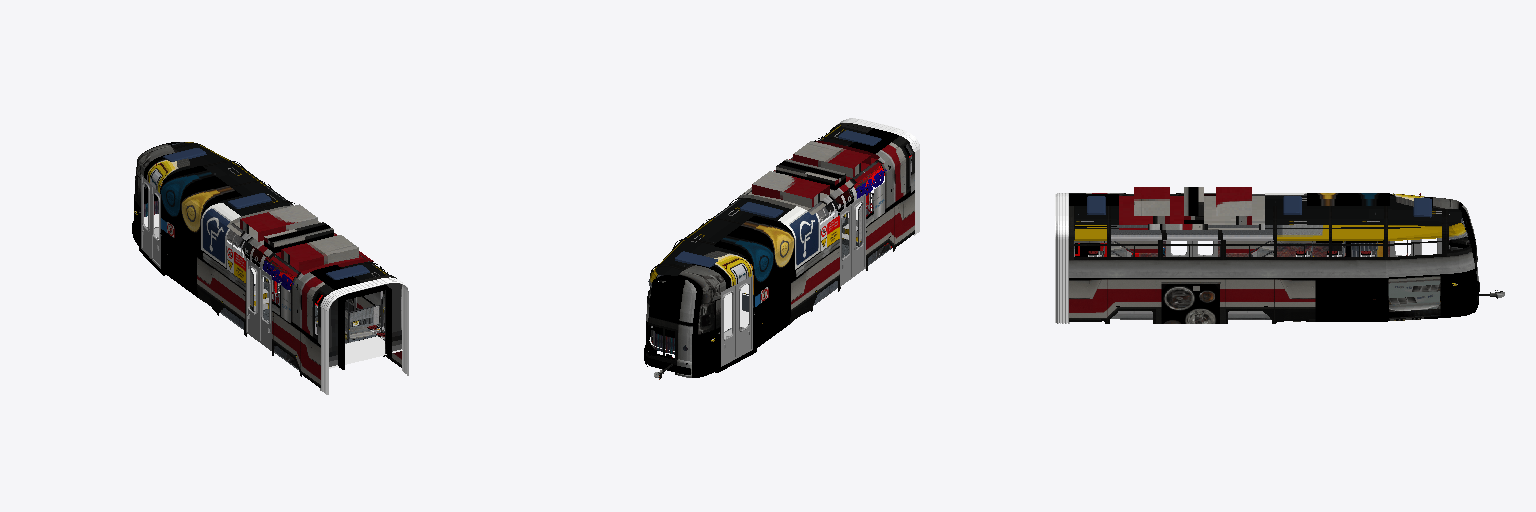
The picture shows the model from 3 angles: view 1: azimuth 30°, elevation 25°; view 2: azimuth 150°, elevation 25°; view 3: azimuth 270°, elevation 25°; orthographic projection.
Visible parts, largest first — view 1: EXT, INT; view 2: EXT, INT; view 3: EXT, INT.
Boxes of the visible parts, x1,y1,x2,y2 form: EXT: [132, 142, 408, 394]; INT: [144, 142, 402, 369]; EXT: [644, 118, 919, 379]; INT: [648, 125, 913, 361]; EXT: [1055, 187, 1504, 323]; INT: [1074, 194, 1476, 319].
Bounding box in the file's own units: 2.49 × 3.14 × 11.75.
15 materials, 7 textured.